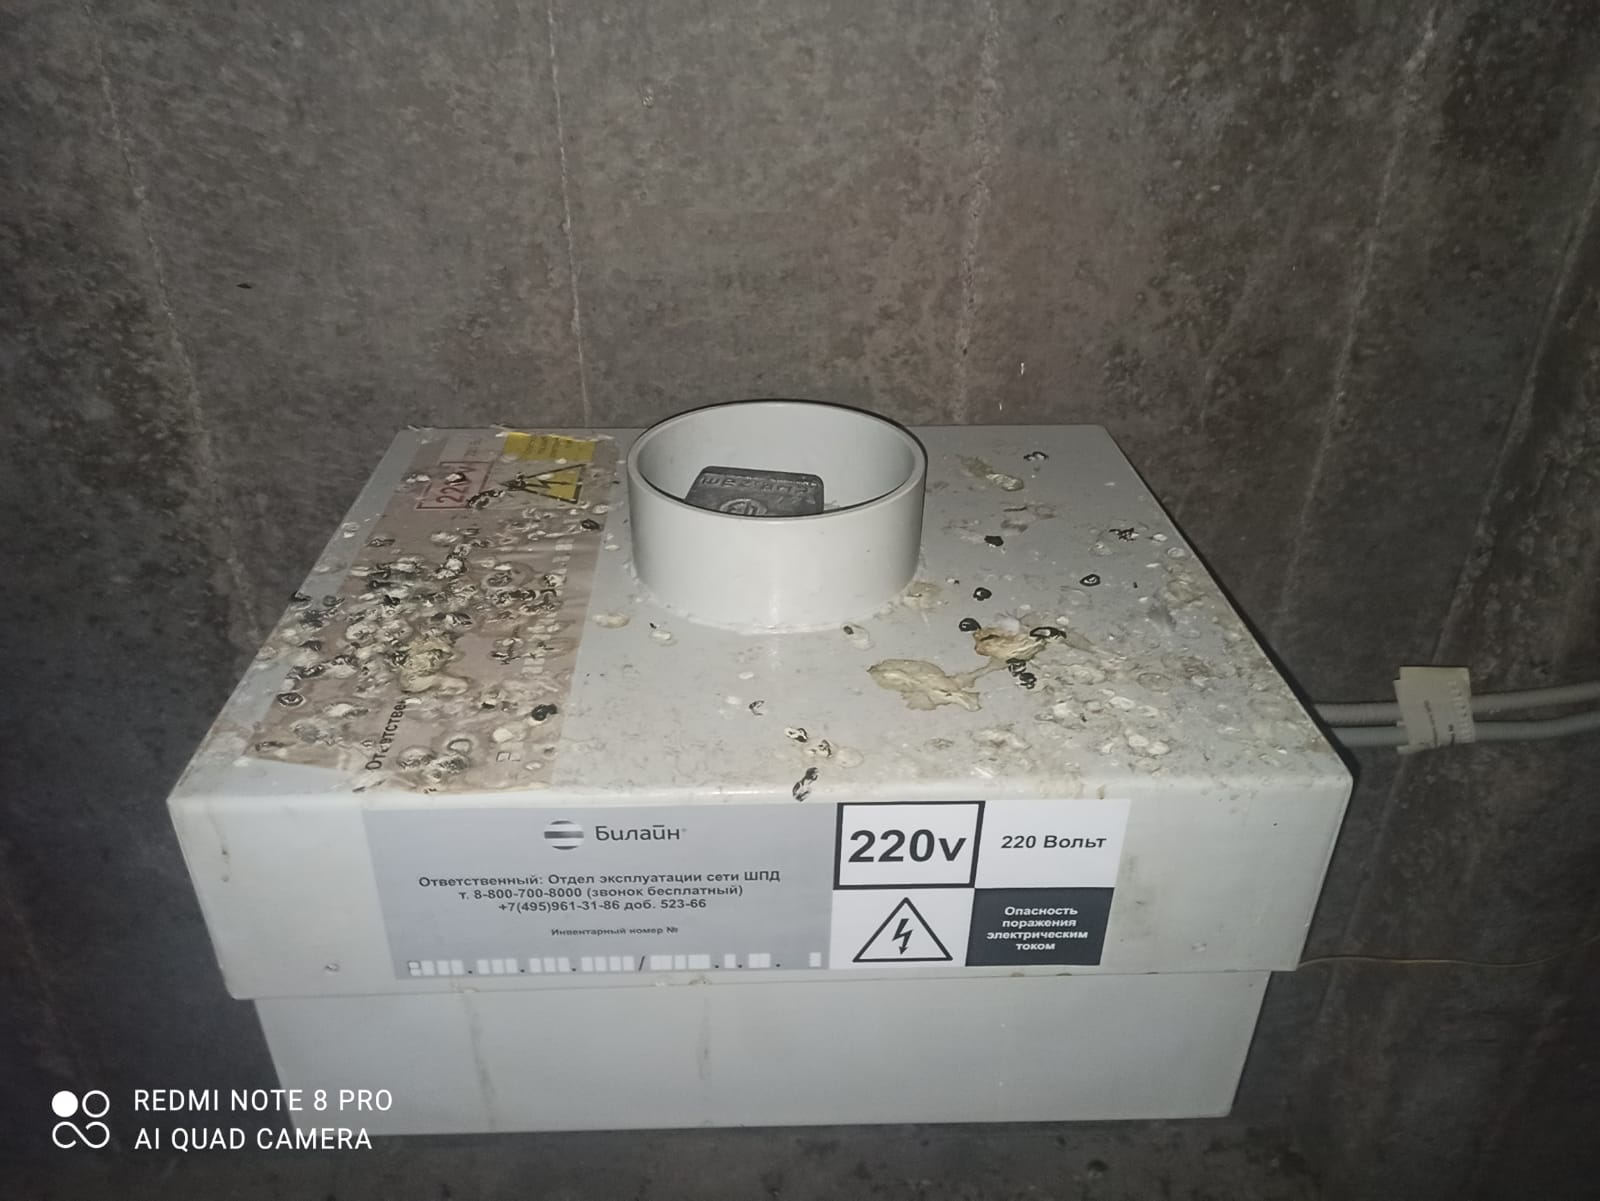shta-ps: (151, 387, 1372, 1151)
